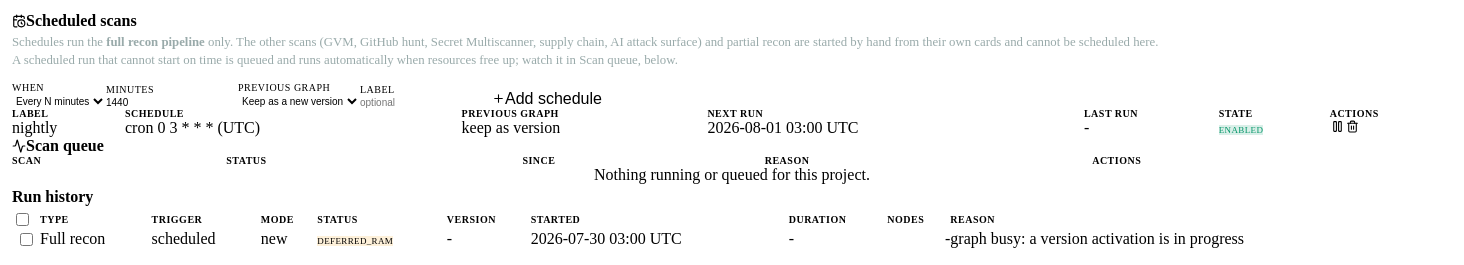
Scenario: ScanScheduleTable › select-all checks every run and reveals the delete button
Expected: the text "deferred_ram" is shown, 317,236 -> 393,246
Click the checkbox named "Select all runs".
click(22, 219)  # box 16,213 -> 29,226
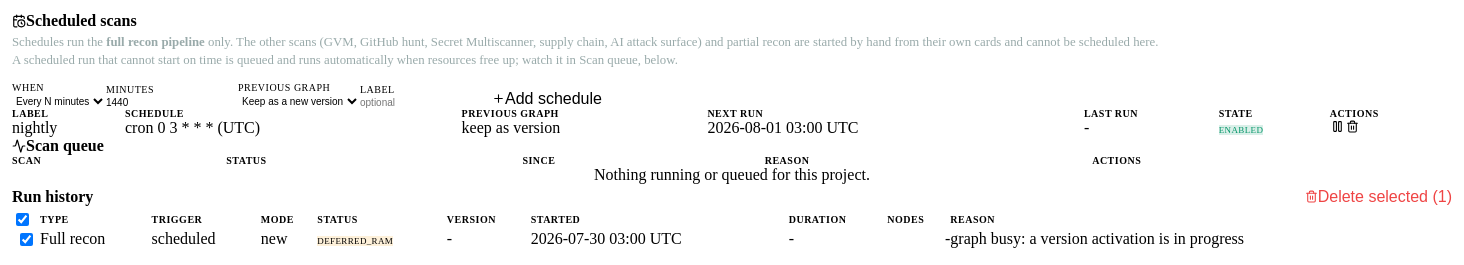
Expected: the text "Delete selected (1)" is shown, 1318,188 -> 1452,206
